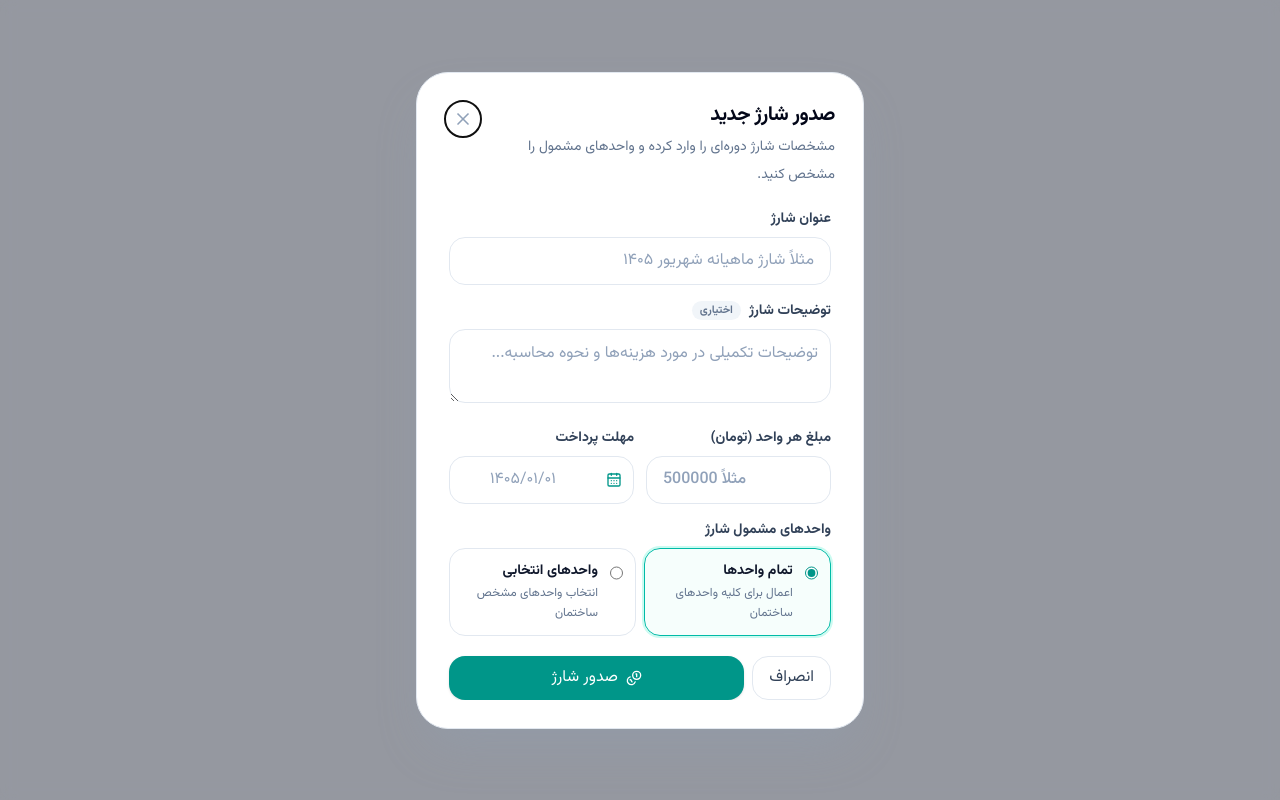
IssueChargeModal › rejects zero or negative amount
The width and height of the screenshot is (1280, 800).
Type "شارژ شهریور" into the field labelled "عنوان شارژ".
click(640, 260); type("شارژ شهریور")  # box [449,236,831,284]
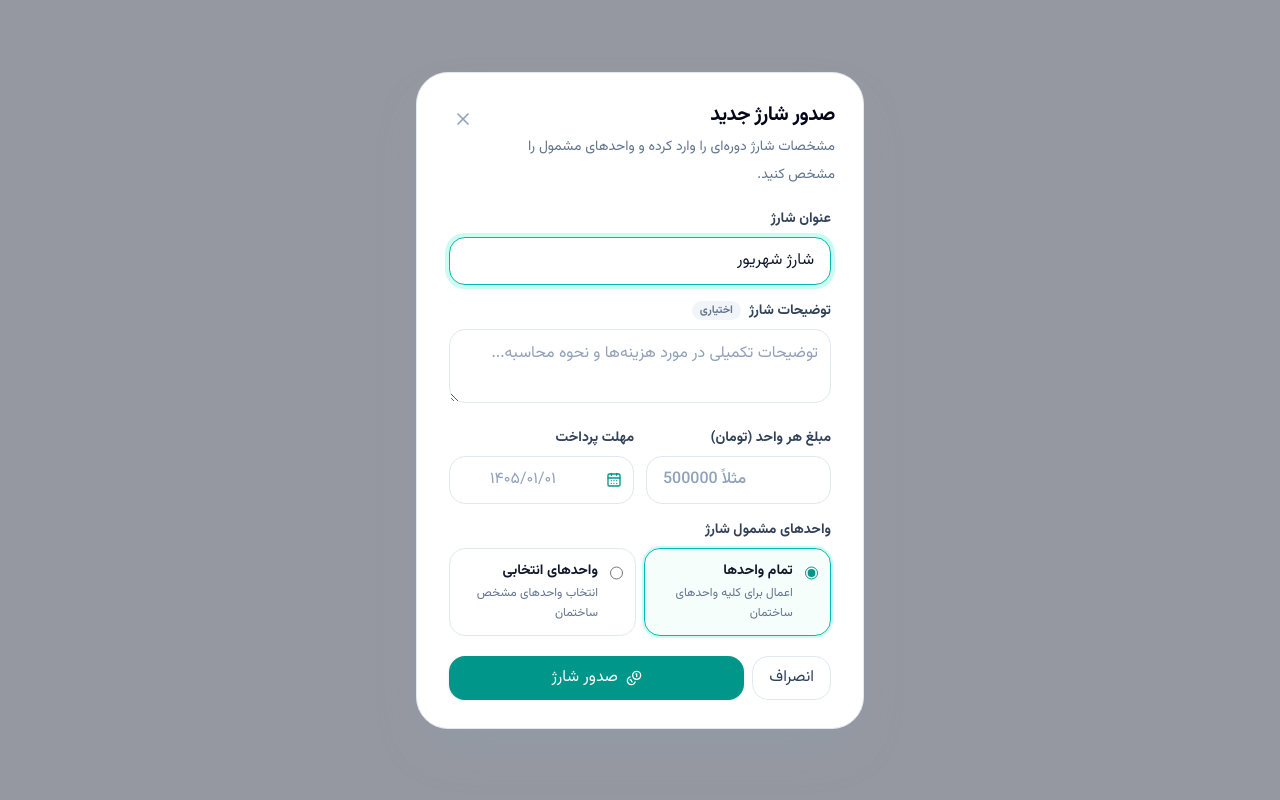
Type "-500" into the number field labelled "مبلغ هر واحد (تومان)".
click(738, 480); type("-500")  # box [646,456,831,504]
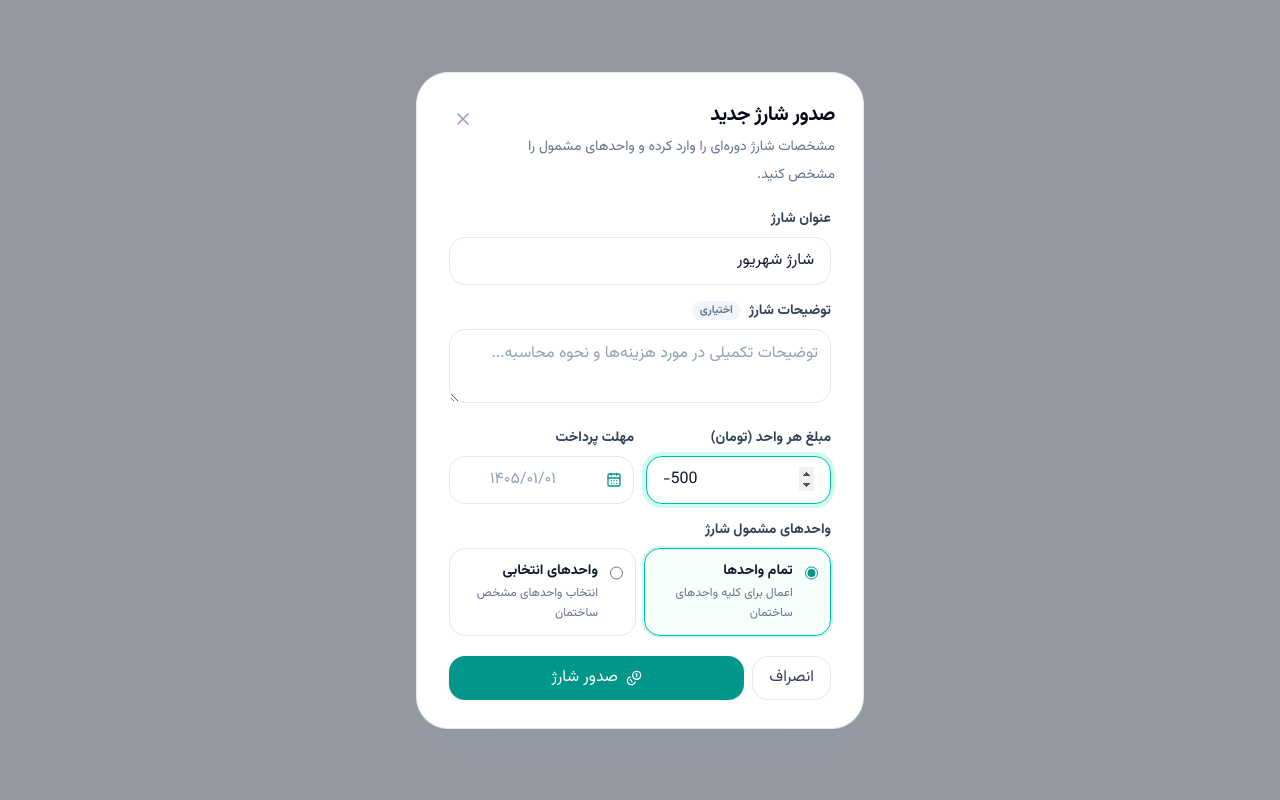
Type "2026-09-20" into the field labelled "مهلت پرداخت".
click(542, 480); type("2026-09-20")  # box [449,456,634,504]
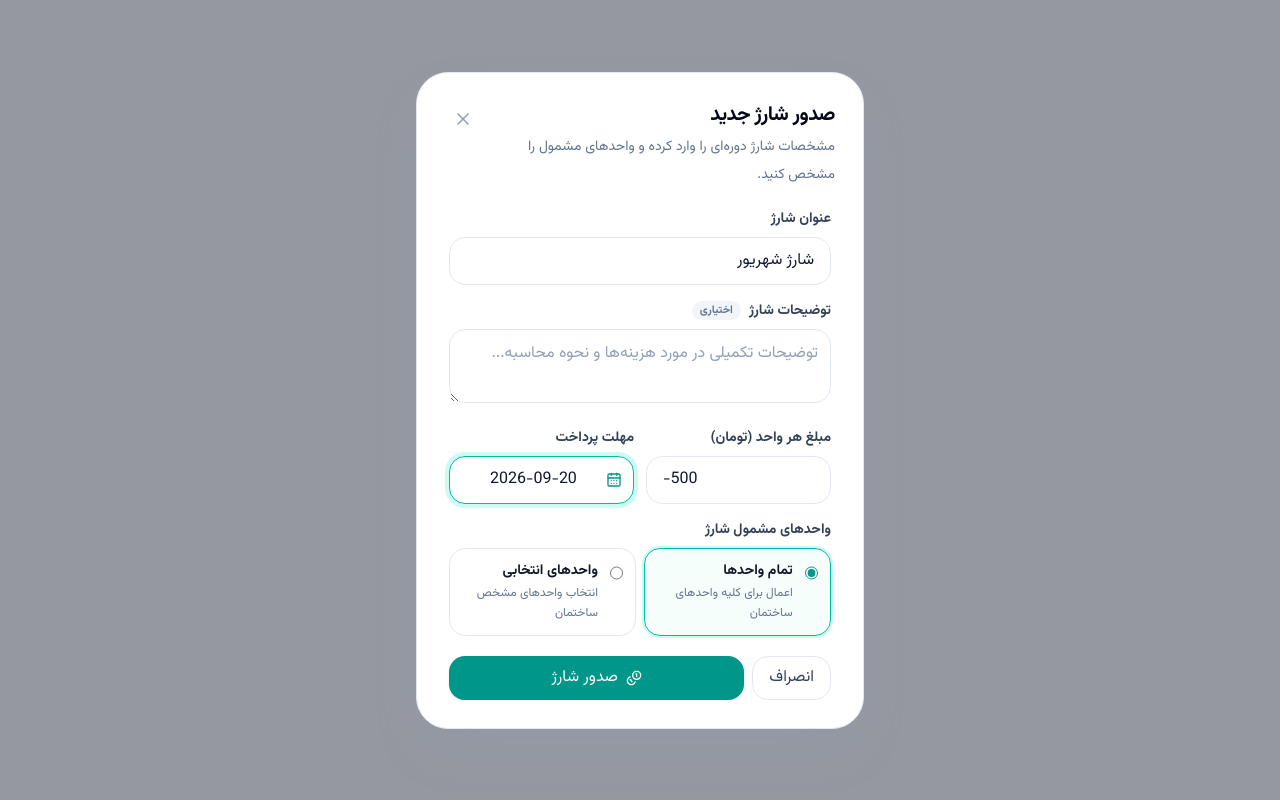
Click the button "صدور شارژ".
click(597, 678)  # box [449,656,744,700]
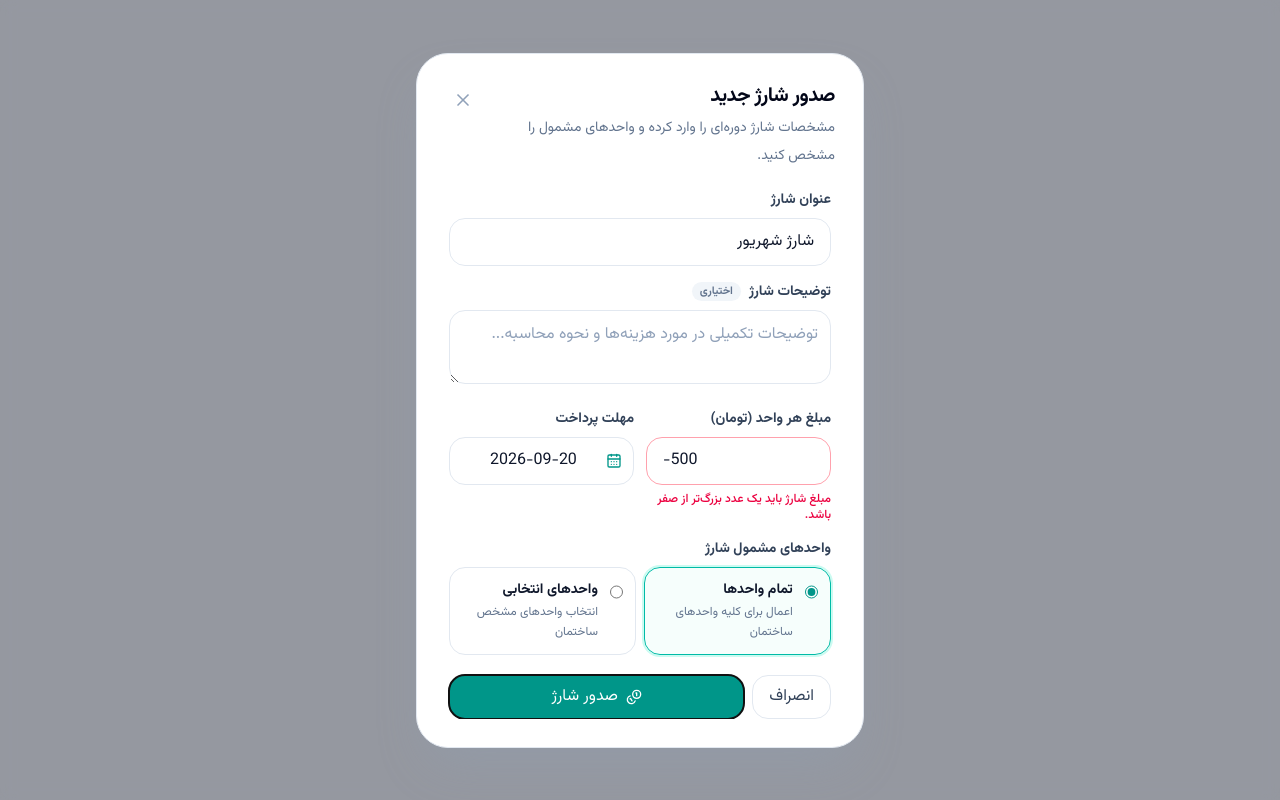
Now the text "مبلغ شارژ باید یک عدد بزرگ‌تر از صفر باشد." is shown, box [646,490,831,522]
